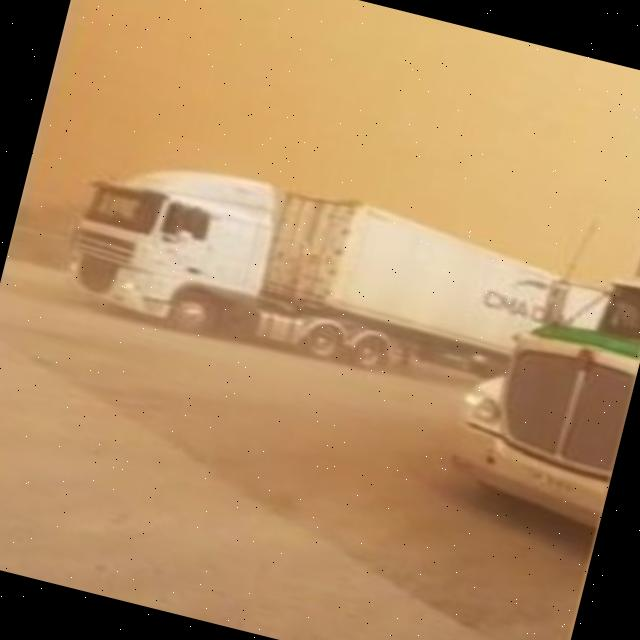bus: (52, 134, 614, 424), (440, 137, 640, 549)
